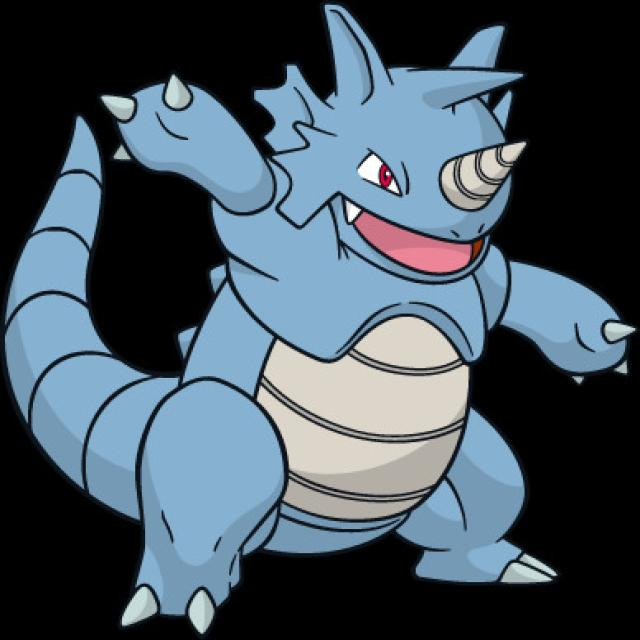Rhydon: (41, 25, 554, 588)
